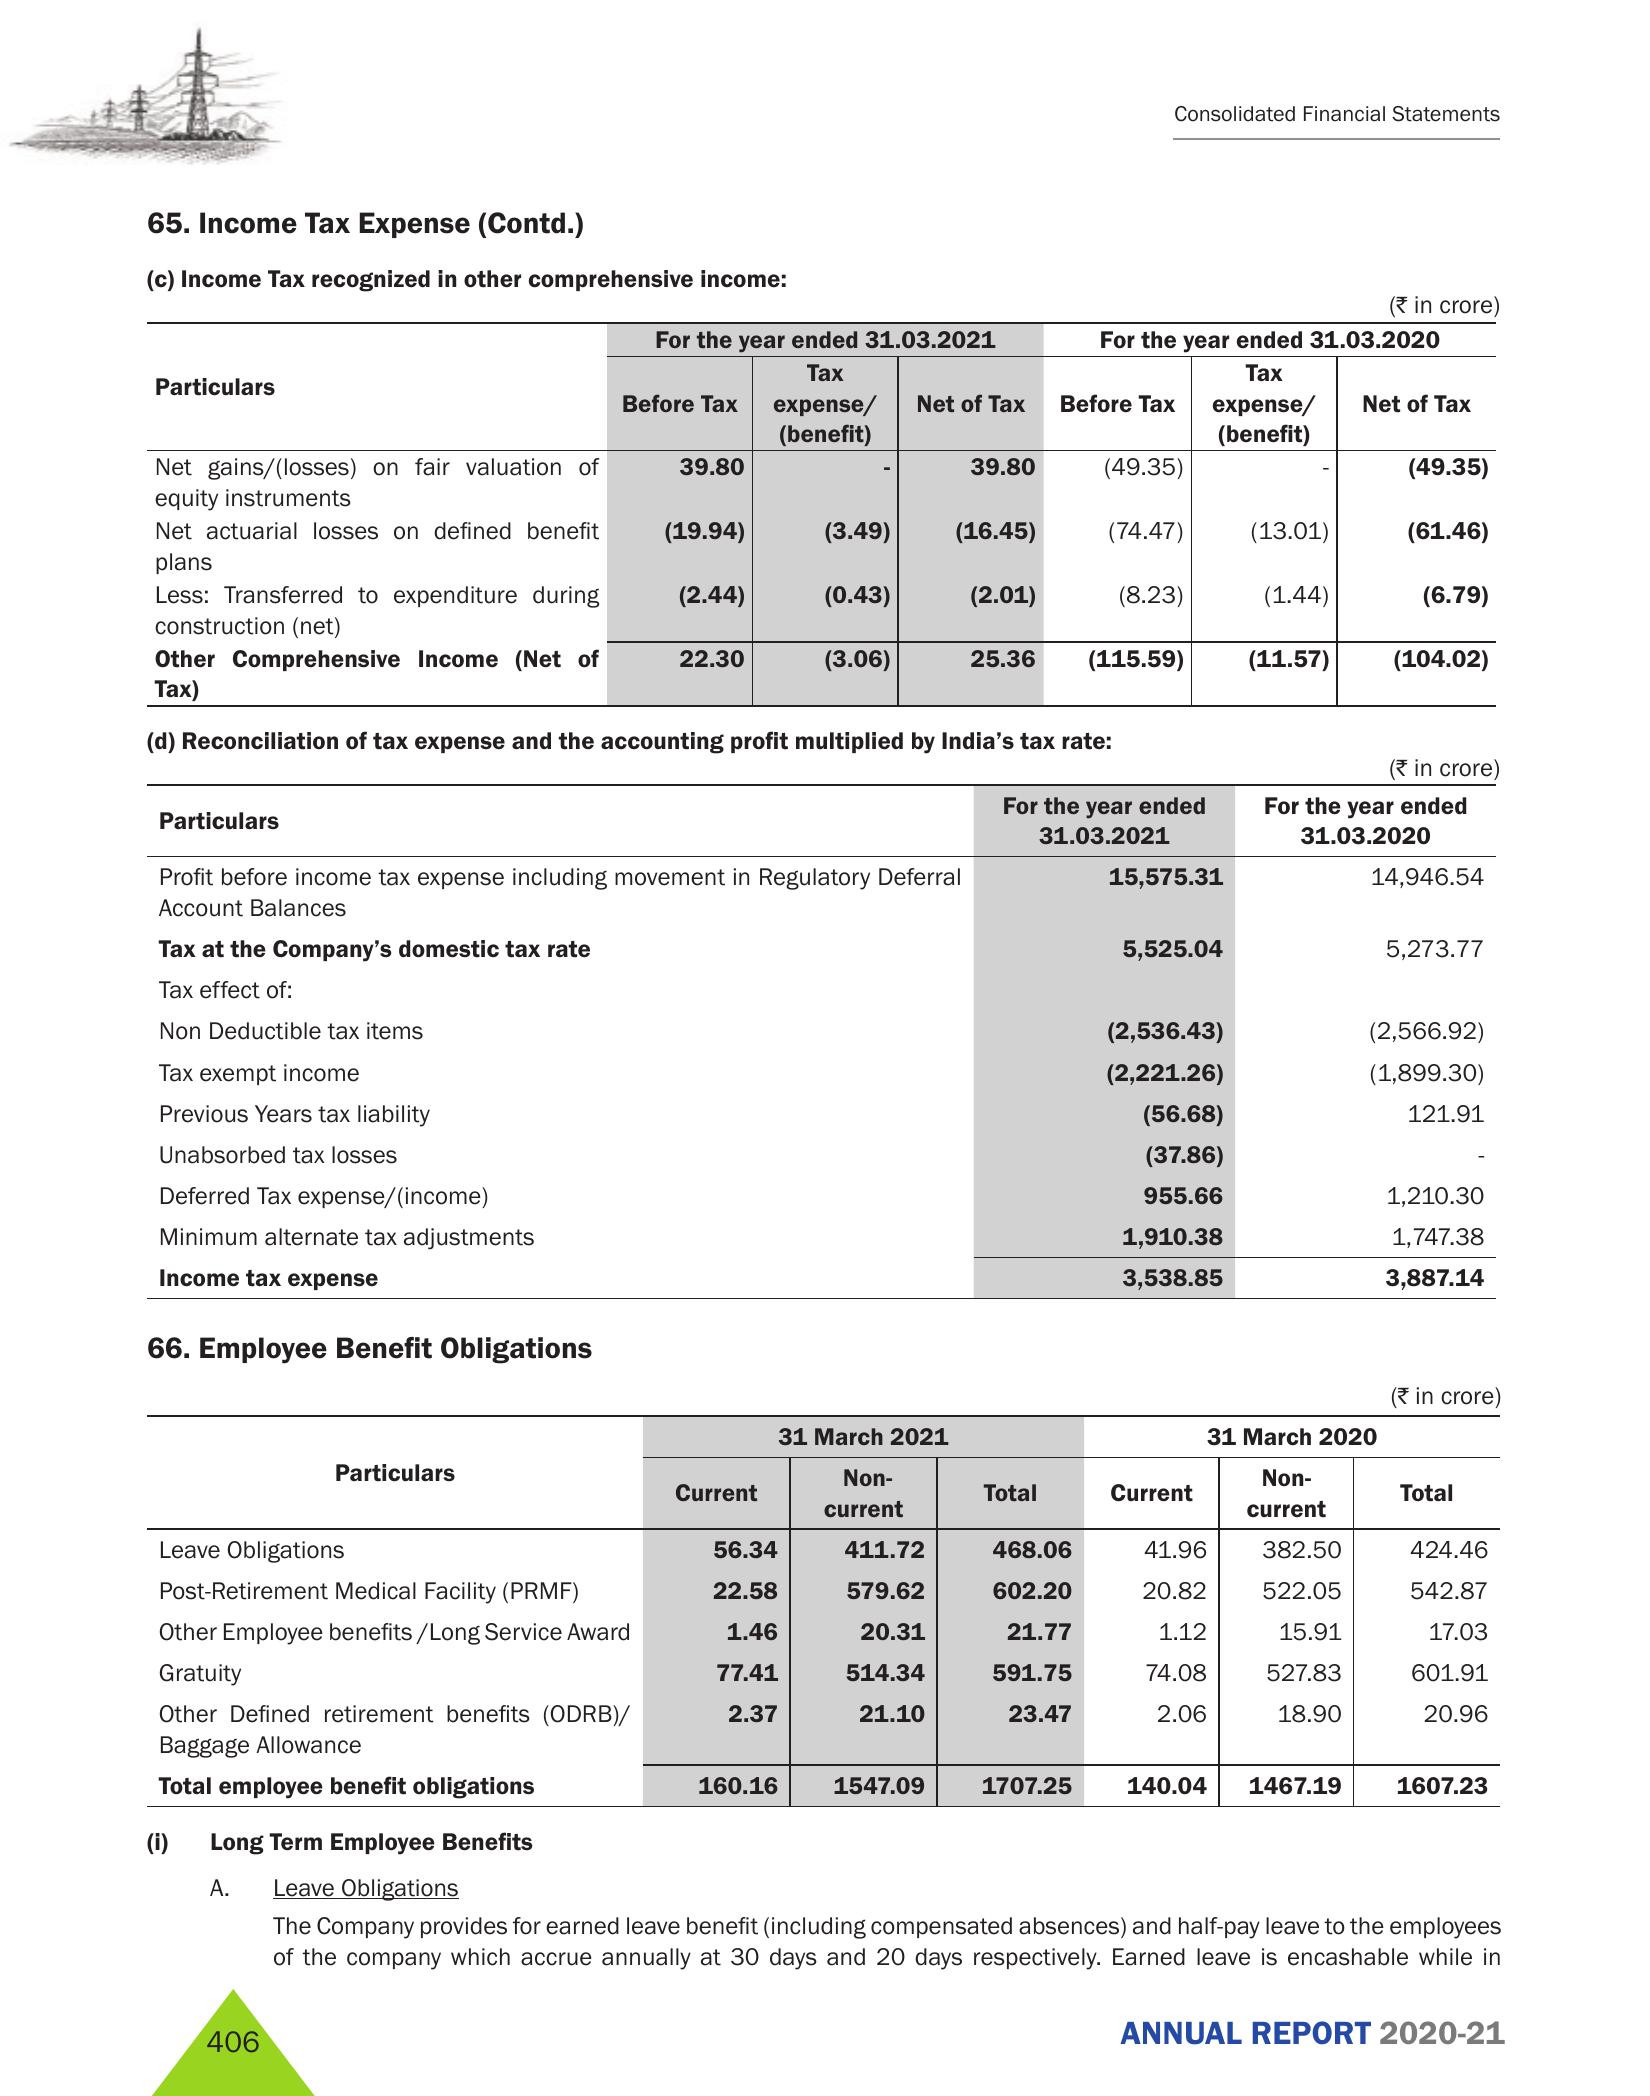Footer: (0, 1965, 1650, 2096)
Header: (0, 0, 1650, 180)
Table: (99, 776, 1516, 1300), (99, 1410, 1545, 1802), (102, 320, 1521, 703)
